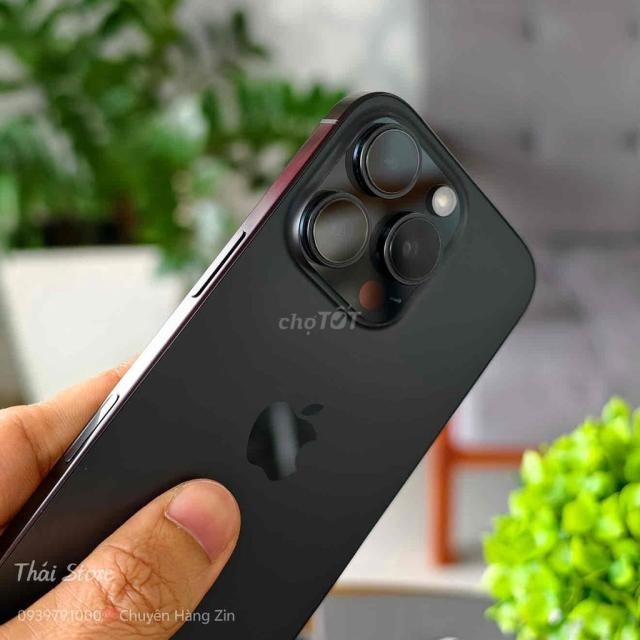gen_16: (3, 84, 544, 640)
